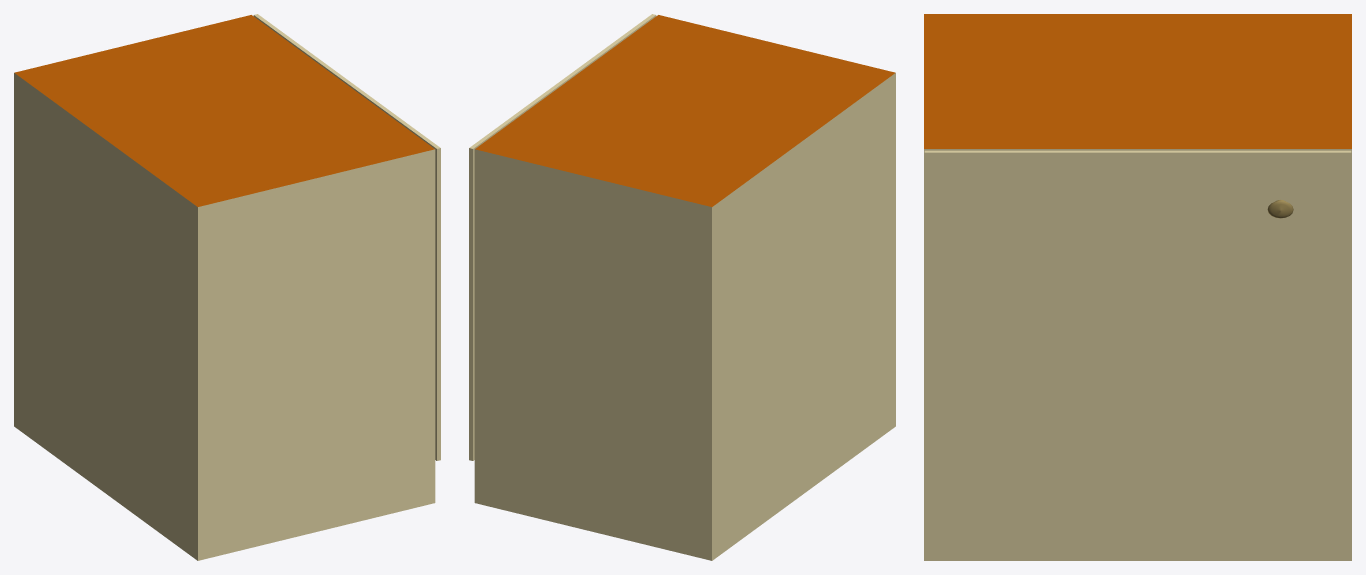
3 views of the same model, side by side, from view 1: azimuth 30°, elevation 25°; view 2: azimuth 150°, elevation 25°; view 3: azimuth 270°, elevation 25° (orthographic). The views are drawn at different scales.
Parts seen in each view (by area): view 1: Porte_1; view 2: Porte_1; view 3: Porte_1.
Part boxes in pixels (x1,y1,x2,y2): Porte_1: (14, 14, 440, 560); Porte_1: (469, 14, 895, 560); Porte_1: (924, 14, 1351, 560).
Size of the model in its own units: 0.64 by 0.8 by 0.85.
